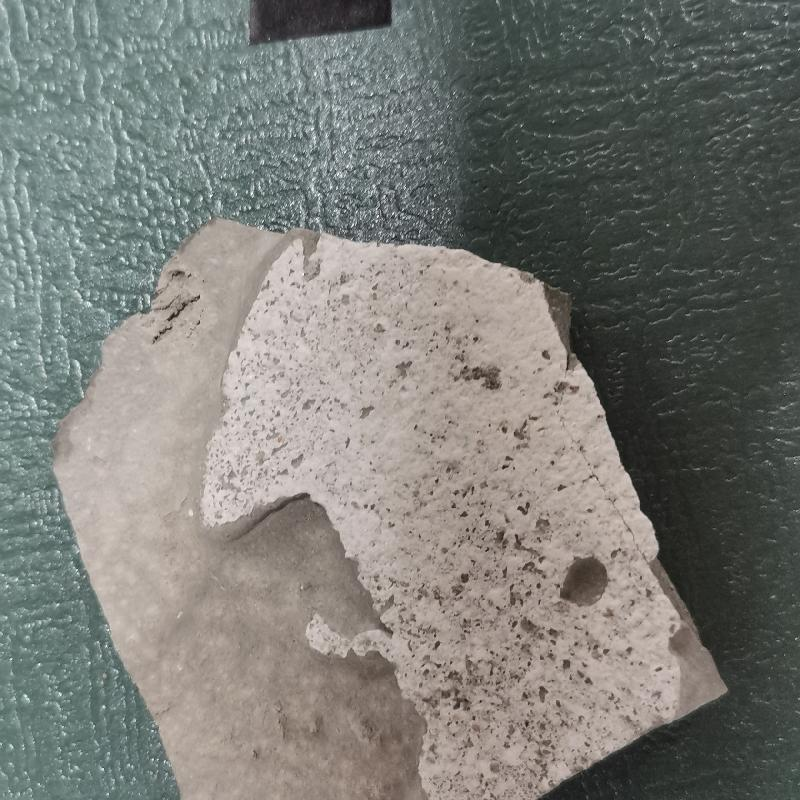tile: (46, 216, 730, 800)
